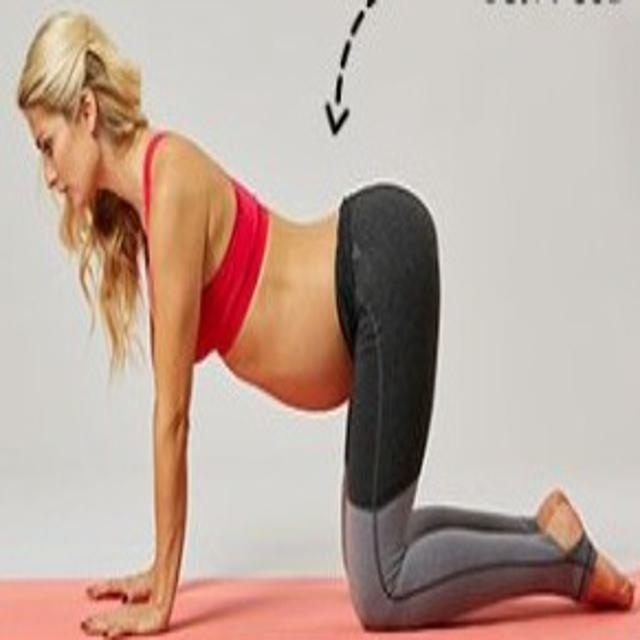Cow_Pose: (18, 11, 634, 638)
